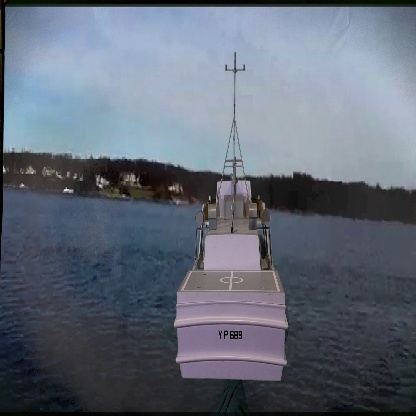YP689: (173, 51, 291, 384)
